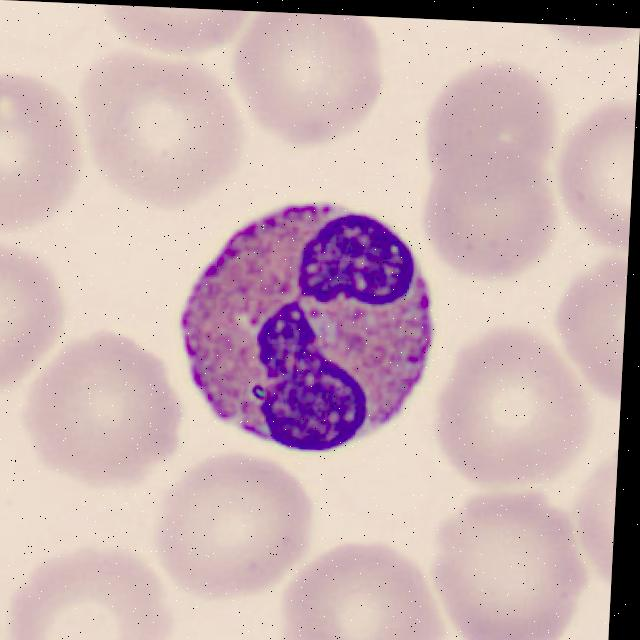eosinophil: (161, 191, 441, 447)
rbc: (430, 319, 599, 486), (22, 326, 183, 484), (80, 51, 247, 202), (427, 485, 588, 640), (413, 56, 565, 213), (156, 454, 314, 598), (229, 11, 388, 140), (417, 143, 564, 282), (274, 529, 442, 640), (6, 539, 173, 640), (0, 73, 83, 238), (557, 86, 637, 248), (551, 248, 628, 392), (0, 241, 68, 389), (86, 4, 265, 58), (572, 443, 618, 588), (516, 23, 640, 46)
